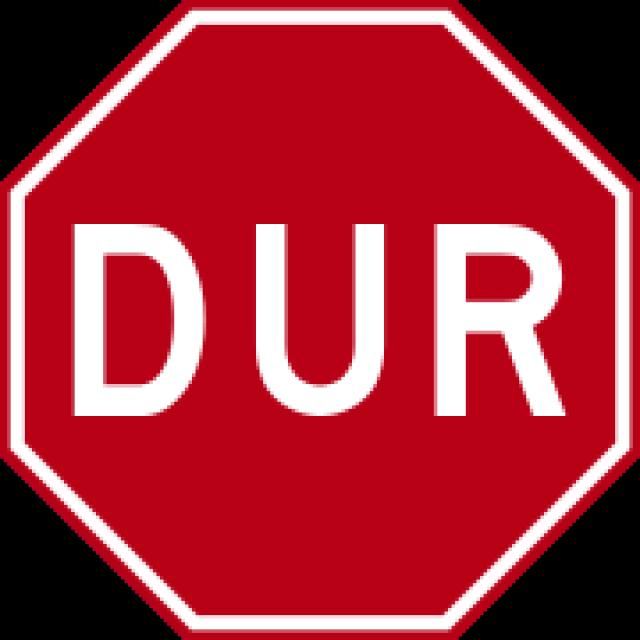Traffic sign: (29, 53, 609, 598)
